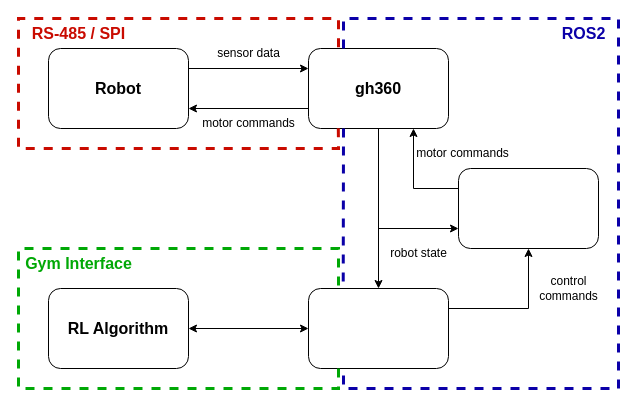
This 638x408 diagram has some shape labels left out. Each missing label, with the centre of its shape:
gh360_control: (x=528, y=208)
gh360_gym: (x=378, y=328)
